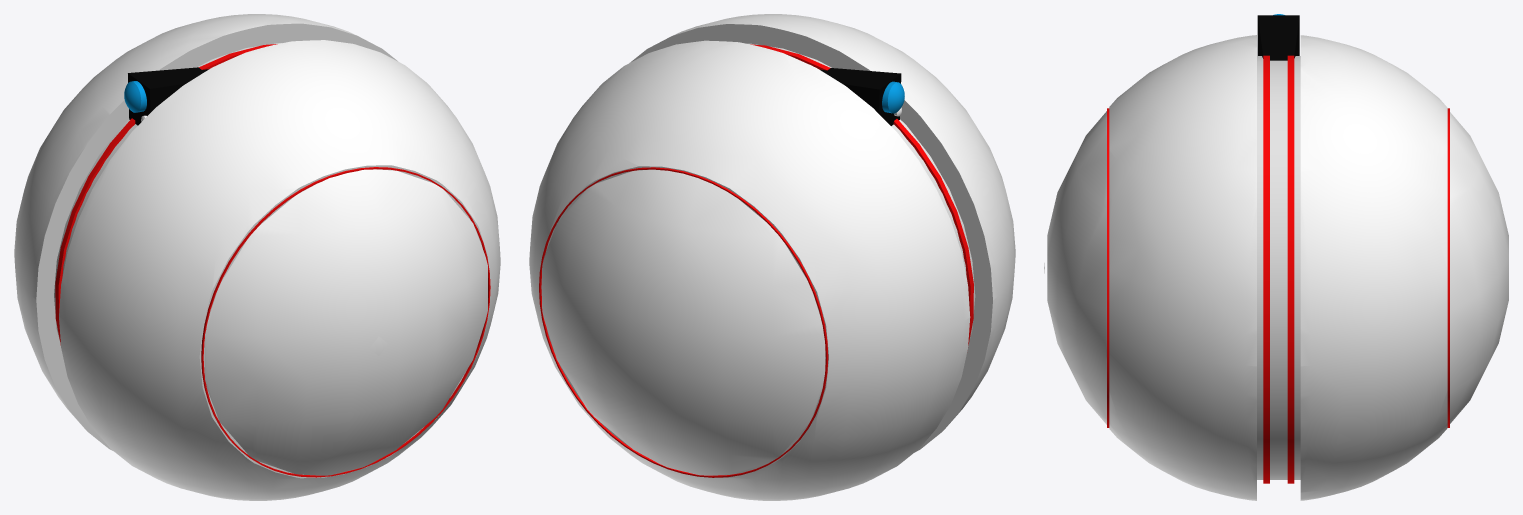
Rendered from Drone.glb.
3 renders of one model, left to right at view 1: azimuth 30°, elevation 25°; view 2: azimuth 150°, elevation 25°; view 3: azimuth 270°, elevation 25°, orthographic. The views are drawn at different scales.
Visible parts, largest first — view 1: Sphere, Sphere_4, Tube, Tube_4, Cube, Tube_2, Cube_2, Oil_Tank_2; view 2: Sphere, Sphere_6, Tube, Tube_1, Tube_3, Cube_2, Cube, Oil_Tank_2; view 3: Sphere, Tube, Sphere_4, Sphere_6, Tube_2, Tube_3, Cube_2, Tube_1, Tube_4.
Part boxes in pixels (x1=…): Sphere: x1=14, y1=14, x2=500, y2=500; Sphere_4: x1=204, y1=169, x2=487, y2=475; Tube: x1=36, y1=23, x2=397, y2=450; Tube_4: x1=201, y1=167, x2=490, y2=477; Cube: x1=199, y1=165, x2=490, y2=478; Tube_2: x1=55, y1=44, x2=277, y2=345; Cube_2: x1=128, y1=67, x2=209, y2=125; Oil_Tank_2: x1=124, y1=81, x2=146, y2=112; Sphere: x1=529, y1=14, x2=1015, y2=500; Sphere_6: x1=542, y1=169, x2=825, y2=475; Tube: x1=630, y1=24, x2=992, y2=452; Tube_1: x1=539, y1=167, x2=828, y2=477; Tube_3: x1=750, y1=44, x2=973, y2=345; Cube_2: x1=820, y1=68, x2=901, y2=125; Cube: x1=541, y1=166, x2=828, y2=477; Oil_Tank_2: x1=882, y1=81, x2=904, y2=113; Sphere: x1=1044, y1=35, x2=1447, y2=500; Tube: x1=1257, y1=56, x2=1300, y2=479; Sphere_4: x1=1047, y1=111, x2=1106, y2=424; Sphere_6: x1=1450, y1=112, x2=1508, y2=423; Tube_2: x1=1287, y1=55, x2=1294, y2=483; Tube_3: x1=1263, y1=55, x2=1269, y2=483; Cube_2: x1=1257, y1=15, x2=1299, y2=60; Tube_1: x1=1447, y1=108, x2=1449, y2=427; Tube_4: x1=1107, y1=108, x2=1109, y2=427.
Bounding box in the file's own units: 1.99 × 1.99 × 1.99.
